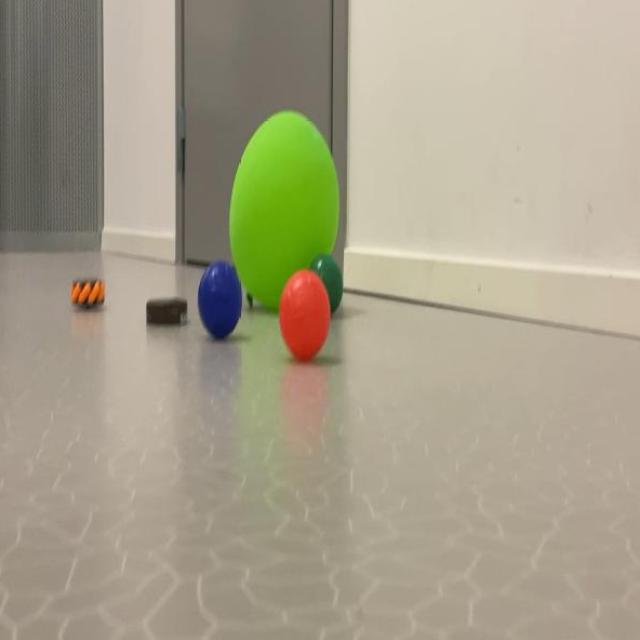blue ball: (194, 267, 238, 344)
gren: (313, 263, 342, 279)
red ball: (280, 281, 328, 364)
